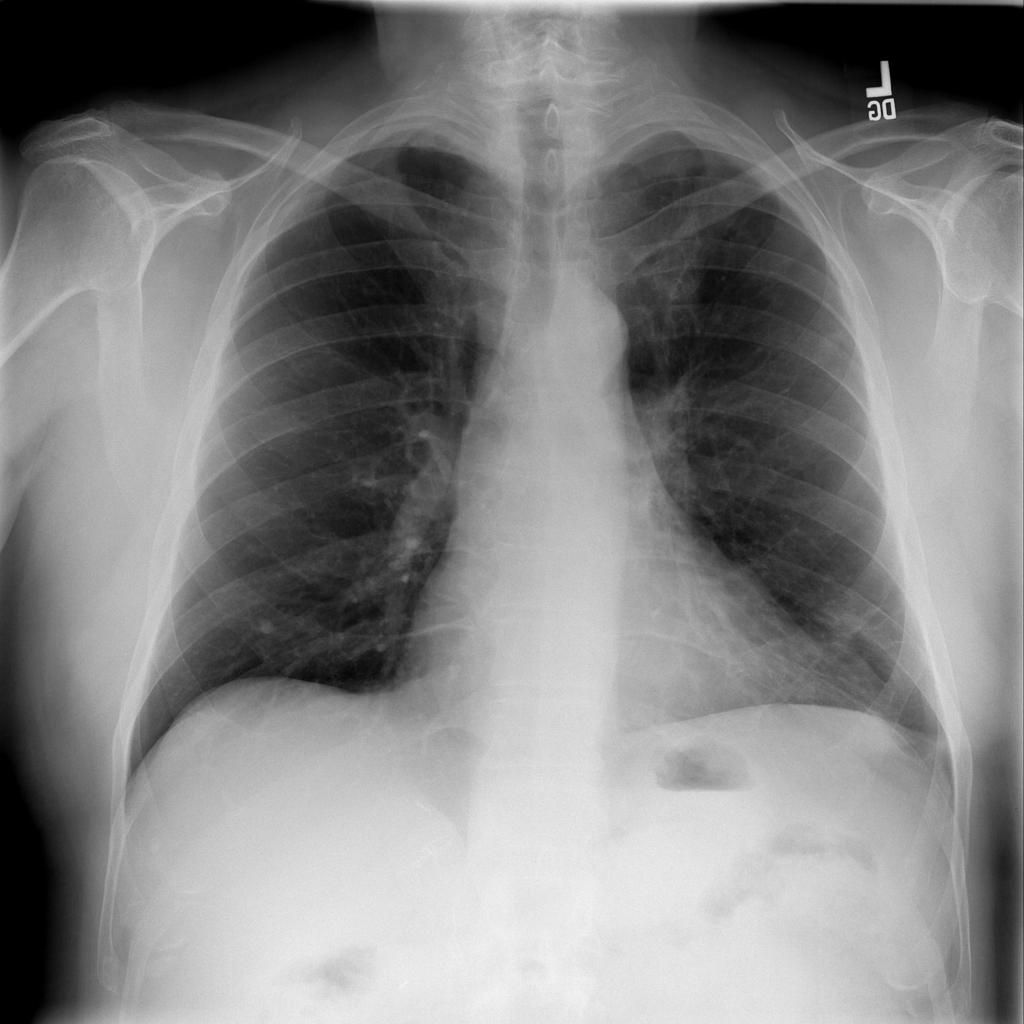nodule: (796, 311, 868, 378), (238, 602, 291, 649)
